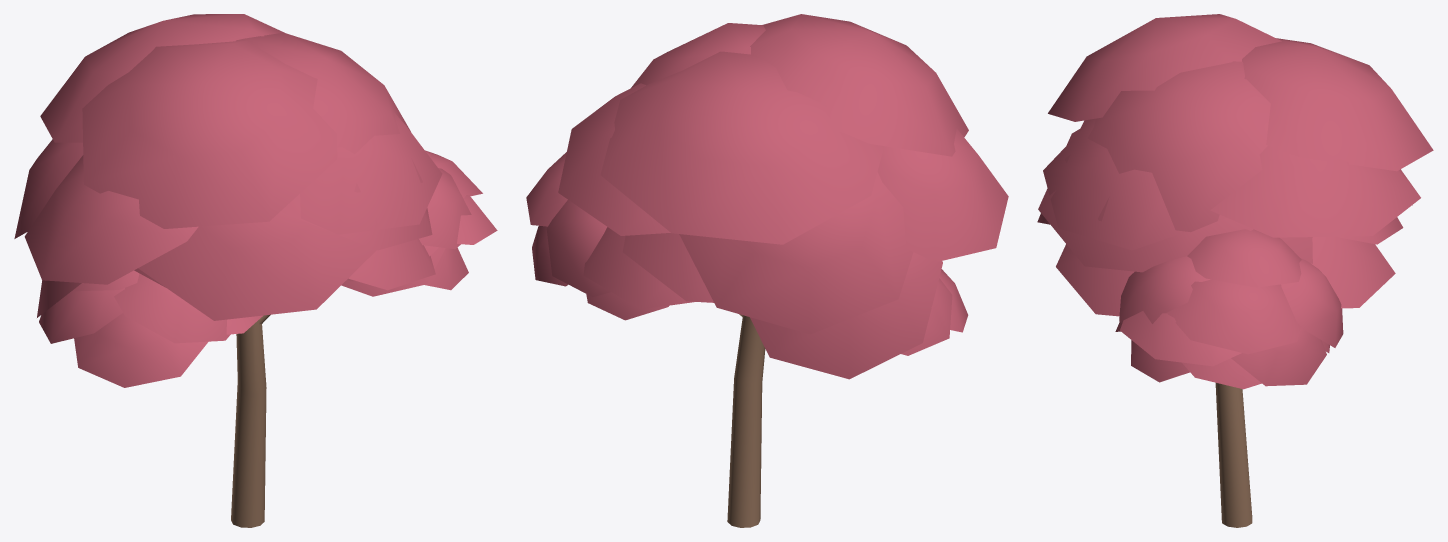
The model's file is Tree_7.glb.
3 renders of one model, left to right at view 1: azimuth 30°, elevation 25°; view 2: azimuth 150°, elevation 25°; view 3: azimuth 270°, elevation 25°, orthographic. The views are drawn at different scales.
Visible parts, largest first — view 1: Tree_7; view 2: Tree_7; view 3: Tree_7.
Part boxes in pixels (<box>): Tree_7: <box>14,14,497,527</box>; Tree_7: <box>526,14,1008,527</box>; Tree_7: <box>1037,14,1433,527</box>.
Bounding box in the file's own units: 5.55 × 5.86 × 4.47.
